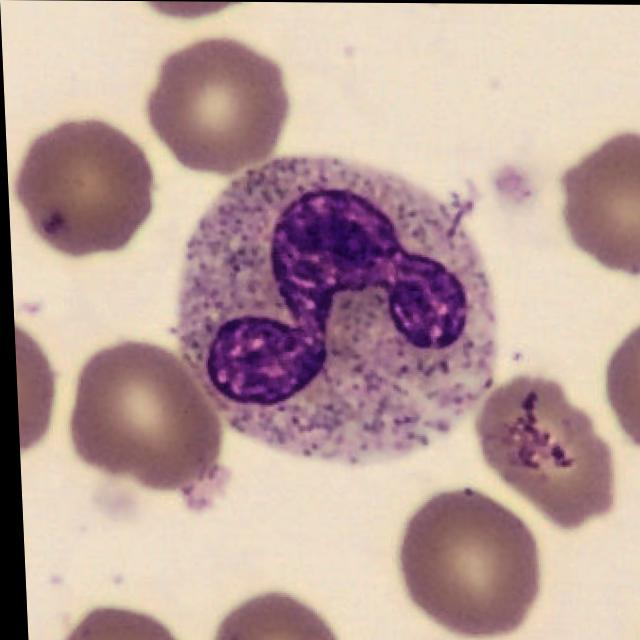Neutrofilo segmentado: (169, 154, 495, 461)
